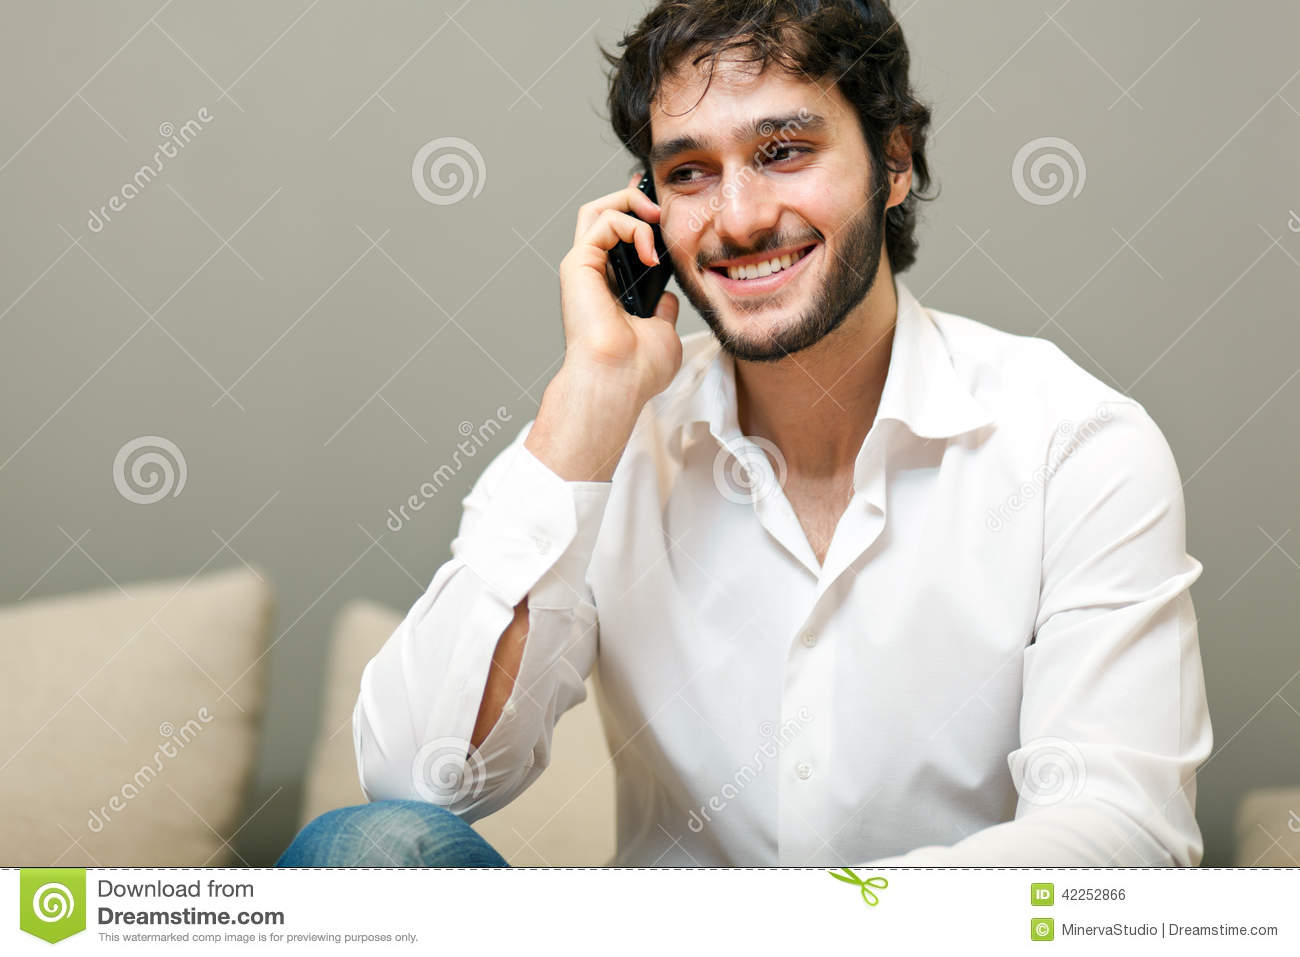phone: (614, 165, 672, 325)
talk: (554, 98, 834, 410)
